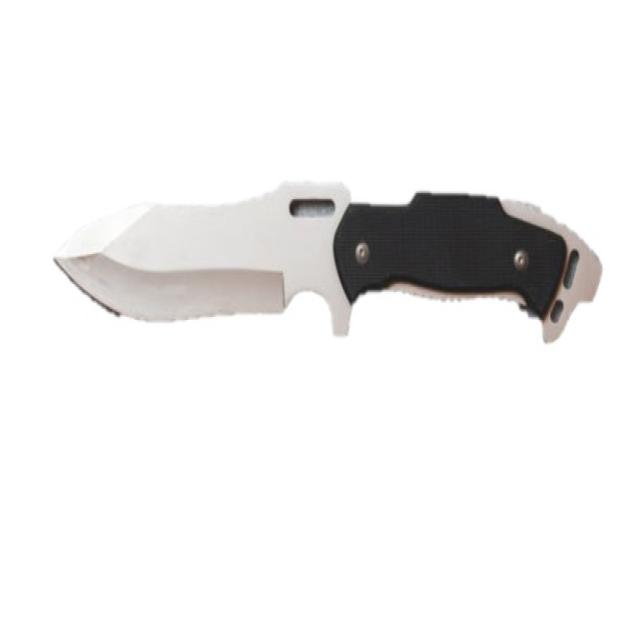knife: (50, 165, 605, 366)
